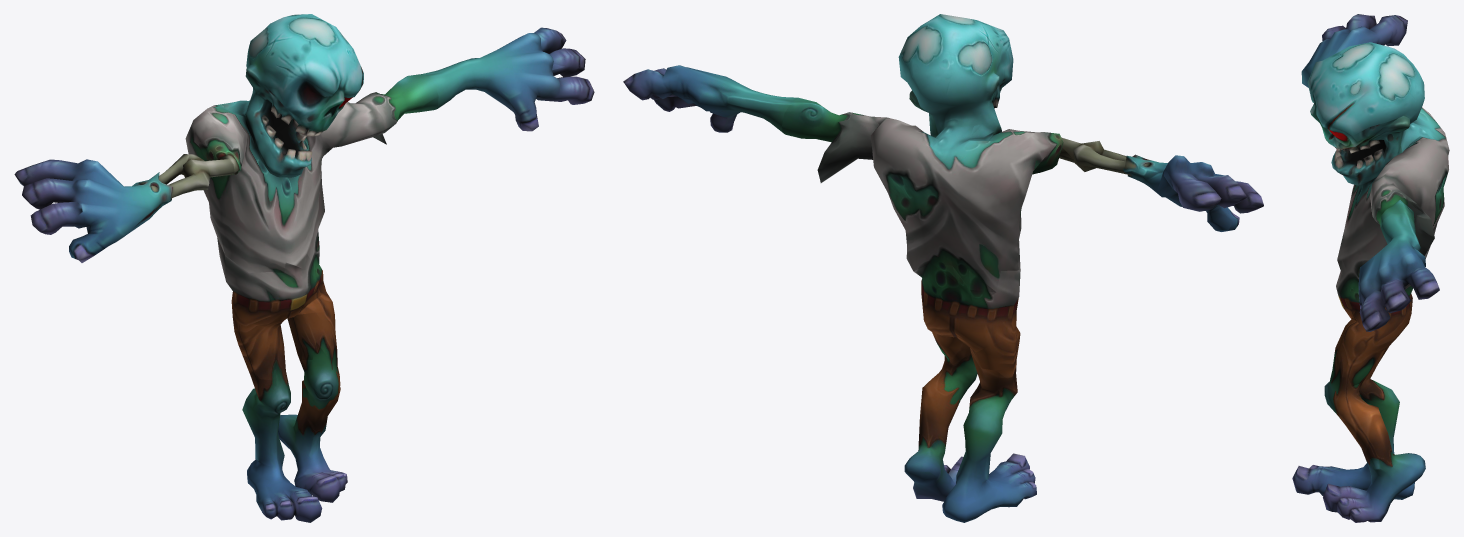
Rendered from 01-2 T-pose (1).fbx.
The picture shows the model from 3 angles, left to right: view 1: azimuth 30°, elevation 25°; view 2: azimuth 150°, elevation 25°; view 3: azimuth 270°, elevation 25°; orthographic projection. The views are drawn at different scales.
Parts seen in each view (by area): view 1: _gltfNode_0, _gltfNode_0.005, _gltfNode_0.003, _gltfNode_0.006, _gltfNode_0.004, _gltfNode_0.002, _gltfNode_0.001; view 2: _gltfNode_0, _gltfNode_0.005, _gltfNode_0.006, _gltfNode_0.002, _gltfNode_0.003, _gltfNode_0.004, _gltfNode_0.001; view 3: _gltfNode_0.005, _gltfNode_0, _gltfNode_0.001, _gltfNode_0.004, _gltfNode_0.006, _gltfNode_0.002, _gltfNode_0.003.
Boxes of the visible parts, left/top/right/bottom form: _gltfNode_0: left=185, top=74, right=438, bottom=273; _gltfNode_0.005: left=245, top=14, right=363, bottom=177; _gltfNode_0.003: left=14, top=154, right=209, bottom=262; _gltfNode_0.006: left=217, top=238, right=337, bottom=380; _gltfNode_0.004: left=423, top=27, right=594, bottom=131; _gltfNode_0.002: left=242, top=361, right=322, bottom=522; _gltfNode_0.001: left=277, top=338, right=347, bottom=502; _gltfNode_0: left=782, top=97, right=1080, bottom=291; _gltfNode_0.005: left=898, top=14, right=1013, bottom=137; _gltfNode_0.006: left=913, top=263, right=1020, bottom=381; _gltfNode_0.002: left=942, top=358, right=1036, bottom=522; _gltfNode_0.003: left=1073, top=141, right=1263, bottom=231; _gltfNode_0.004: left=623, top=65, right=797, bottom=133; _gltfNode_0.001: left=904, top=354, right=977, bottom=501; _gltfNode_0.005: left=1307, top=42, right=1424, bottom=185; _gltfNode_0: left=1337, top=107, right=1449, bottom=279; _gltfNode_0.001: left=1323, top=356, right=1425, bottom=522; _gltfNode_0.004: left=1358, top=214, right=1439, bottom=331; _gltfNode_0.006: left=1332, top=260, right=1413, bottom=386; _gltfNode_0.002: left=1292, top=347, right=1414, bottom=499; _gltfNode_0.003: left=1301, top=14, right=1407, bottom=87.
Size of the model in its own units: 406 by 315 by 97.18.
1 material, 1 textured.
